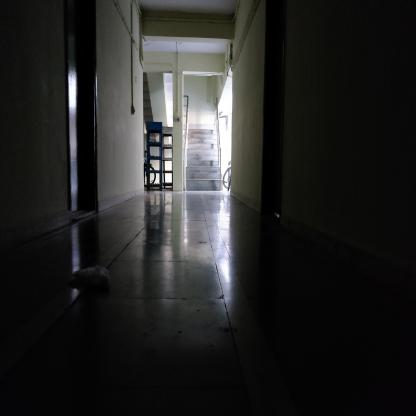stairs: (191, 130, 216, 194)
